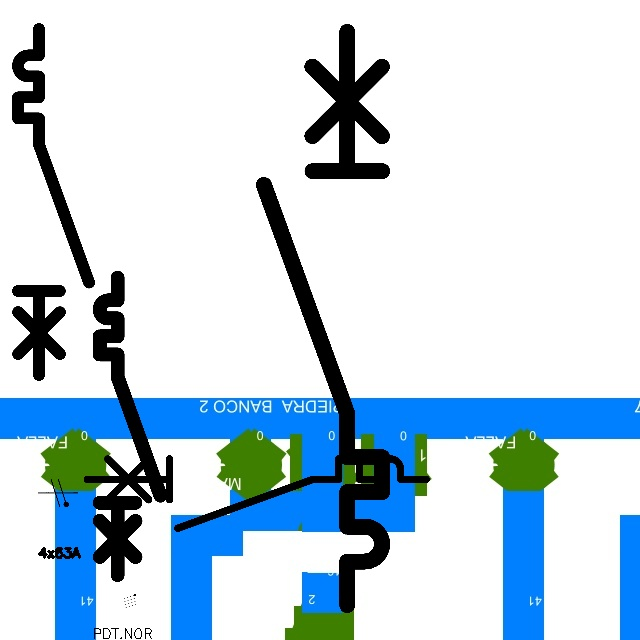interruptor_termomagnetico: (249, 17, 397, 620), (9, 20, 98, 384), (78, 450, 435, 537), (92, 270, 168, 583)
